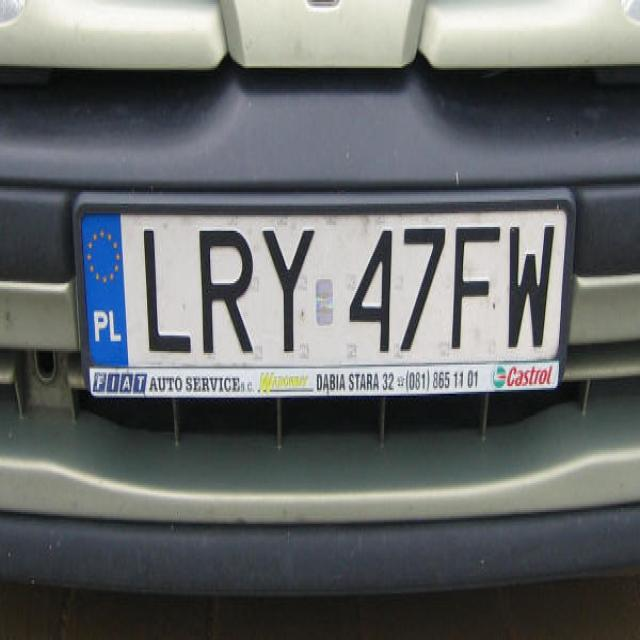pl_license_plate: (81, 208, 565, 362)
